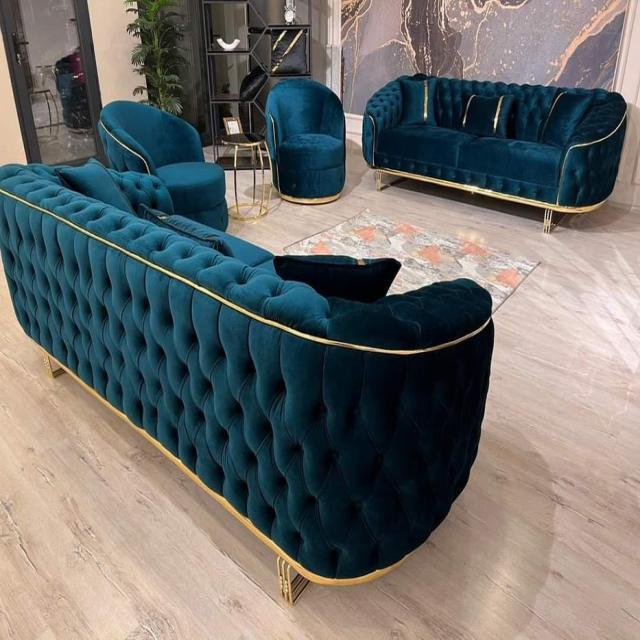sofa: (0, 155, 495, 606), (361, 71, 627, 234), (90, 68, 228, 246), (264, 63, 354, 208)
